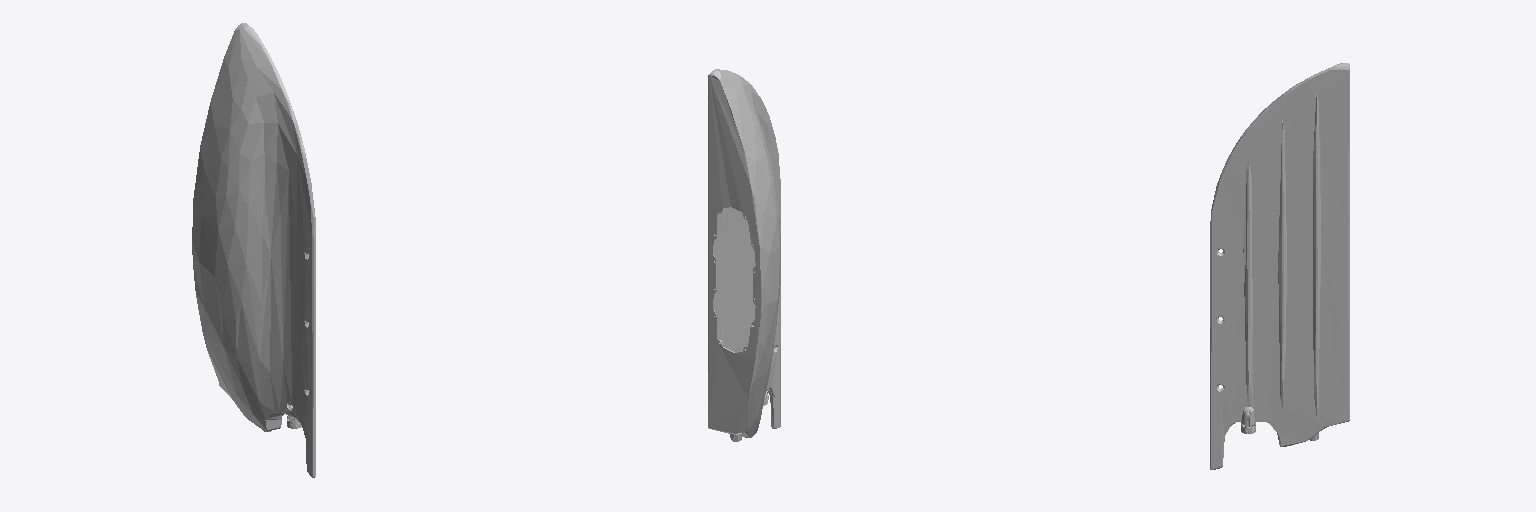
File: rightside_F1.obj
The picture shows the model from 3 angles: view 1: azimuth 30°, elevation 25°; view 2: azimuth 150°, elevation 25°; view 3: azimuth 270°, elevation 25°; orthographic projection.
Visible parts, largest first — view 1: Right_side; view 2: Right_side; view 3: Right_side.
Boxes of the visible parts, <box> form: Right_side: <box>192,23,315,477</box>; Right_side: <box>708,69,780,441</box>; Right_side: <box>1210,63,1349,469</box>.
Size of the model in its own units: 0.1718 by 1.14 by 0.3583.